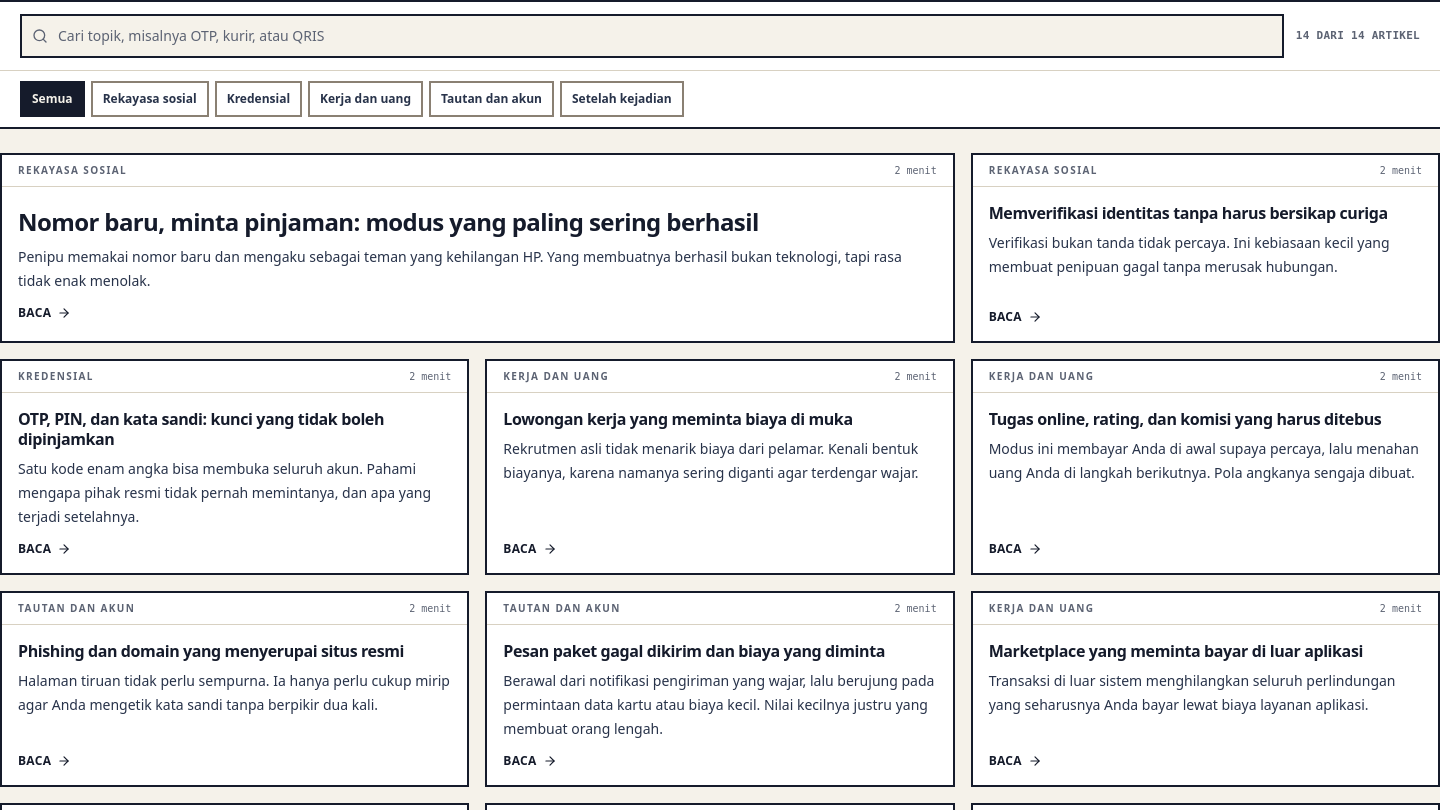
Scenario: Pustaka: halaman indeks › menampilkan keadaan kosong yang bisa direset
Type "katakunciyangtidakada" into the search field named "Cari topik pustaka" at [652, 36], box [20,14,1284,58]
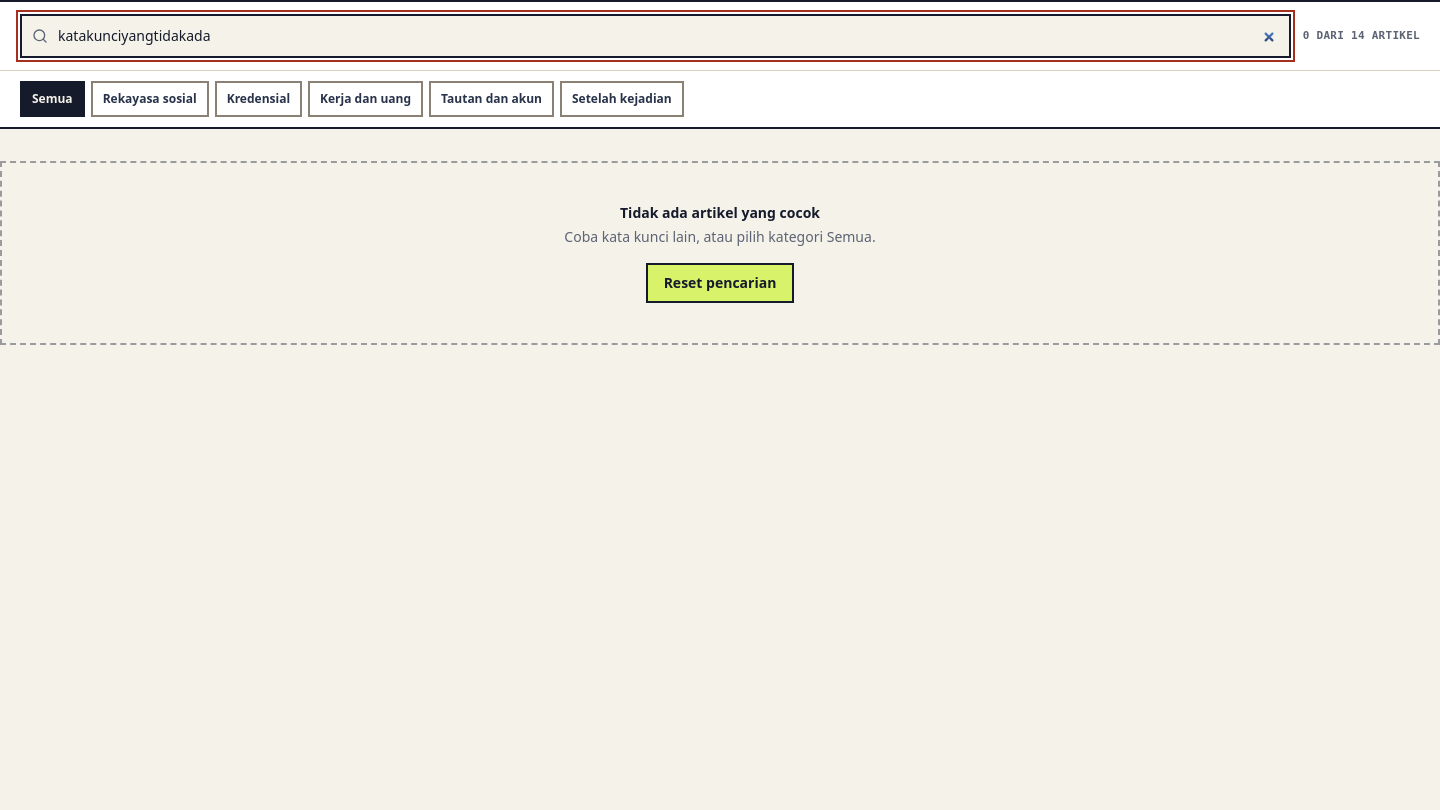
Result: the text "Tidak ada artikel yang cocok" is shown at [620,203,820,222]
Click the button "Reset pencarian" at [720, 283], box [646,263,794,303]
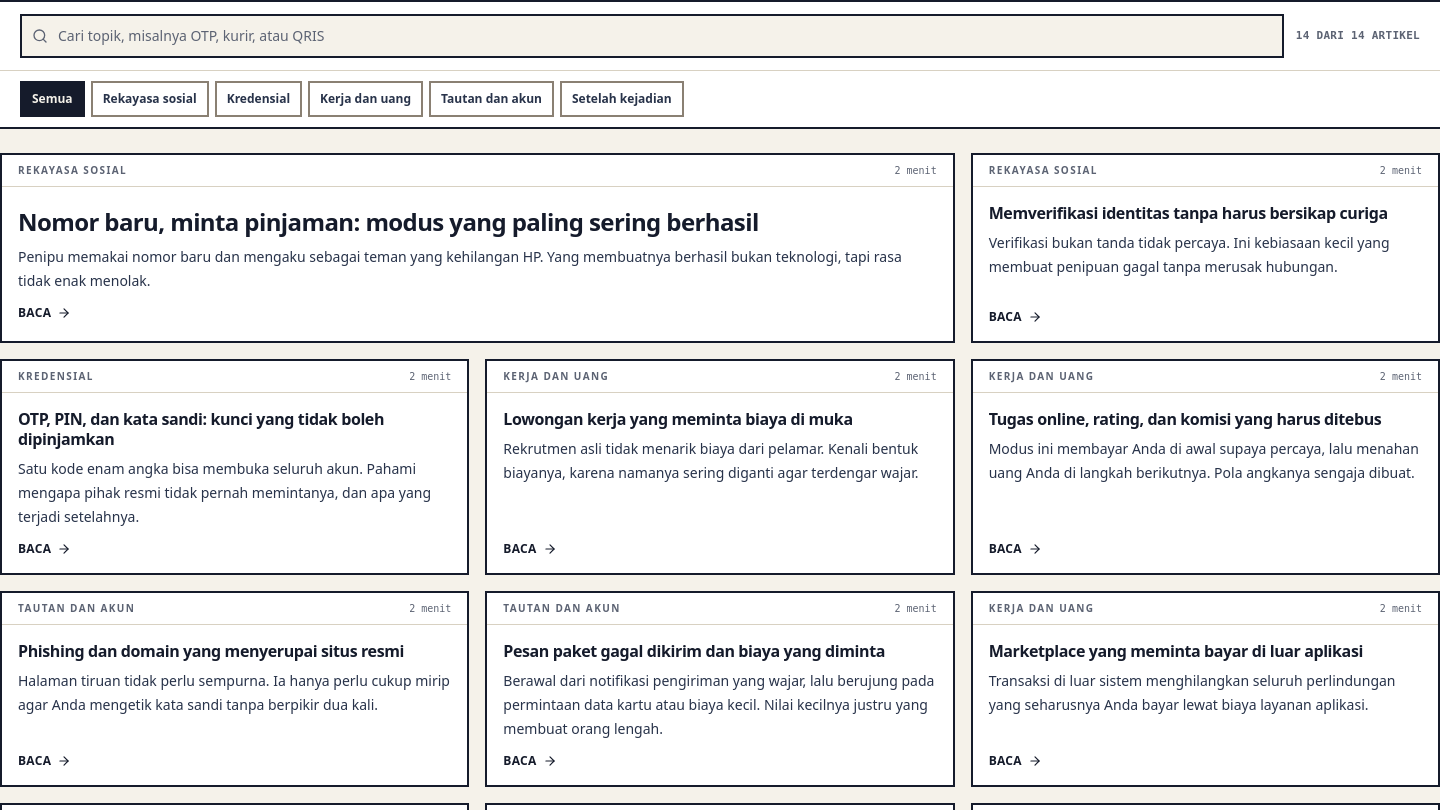
Result: the link "Nomor baru, minta pinjaman" is shown at [2,187,953,341]
